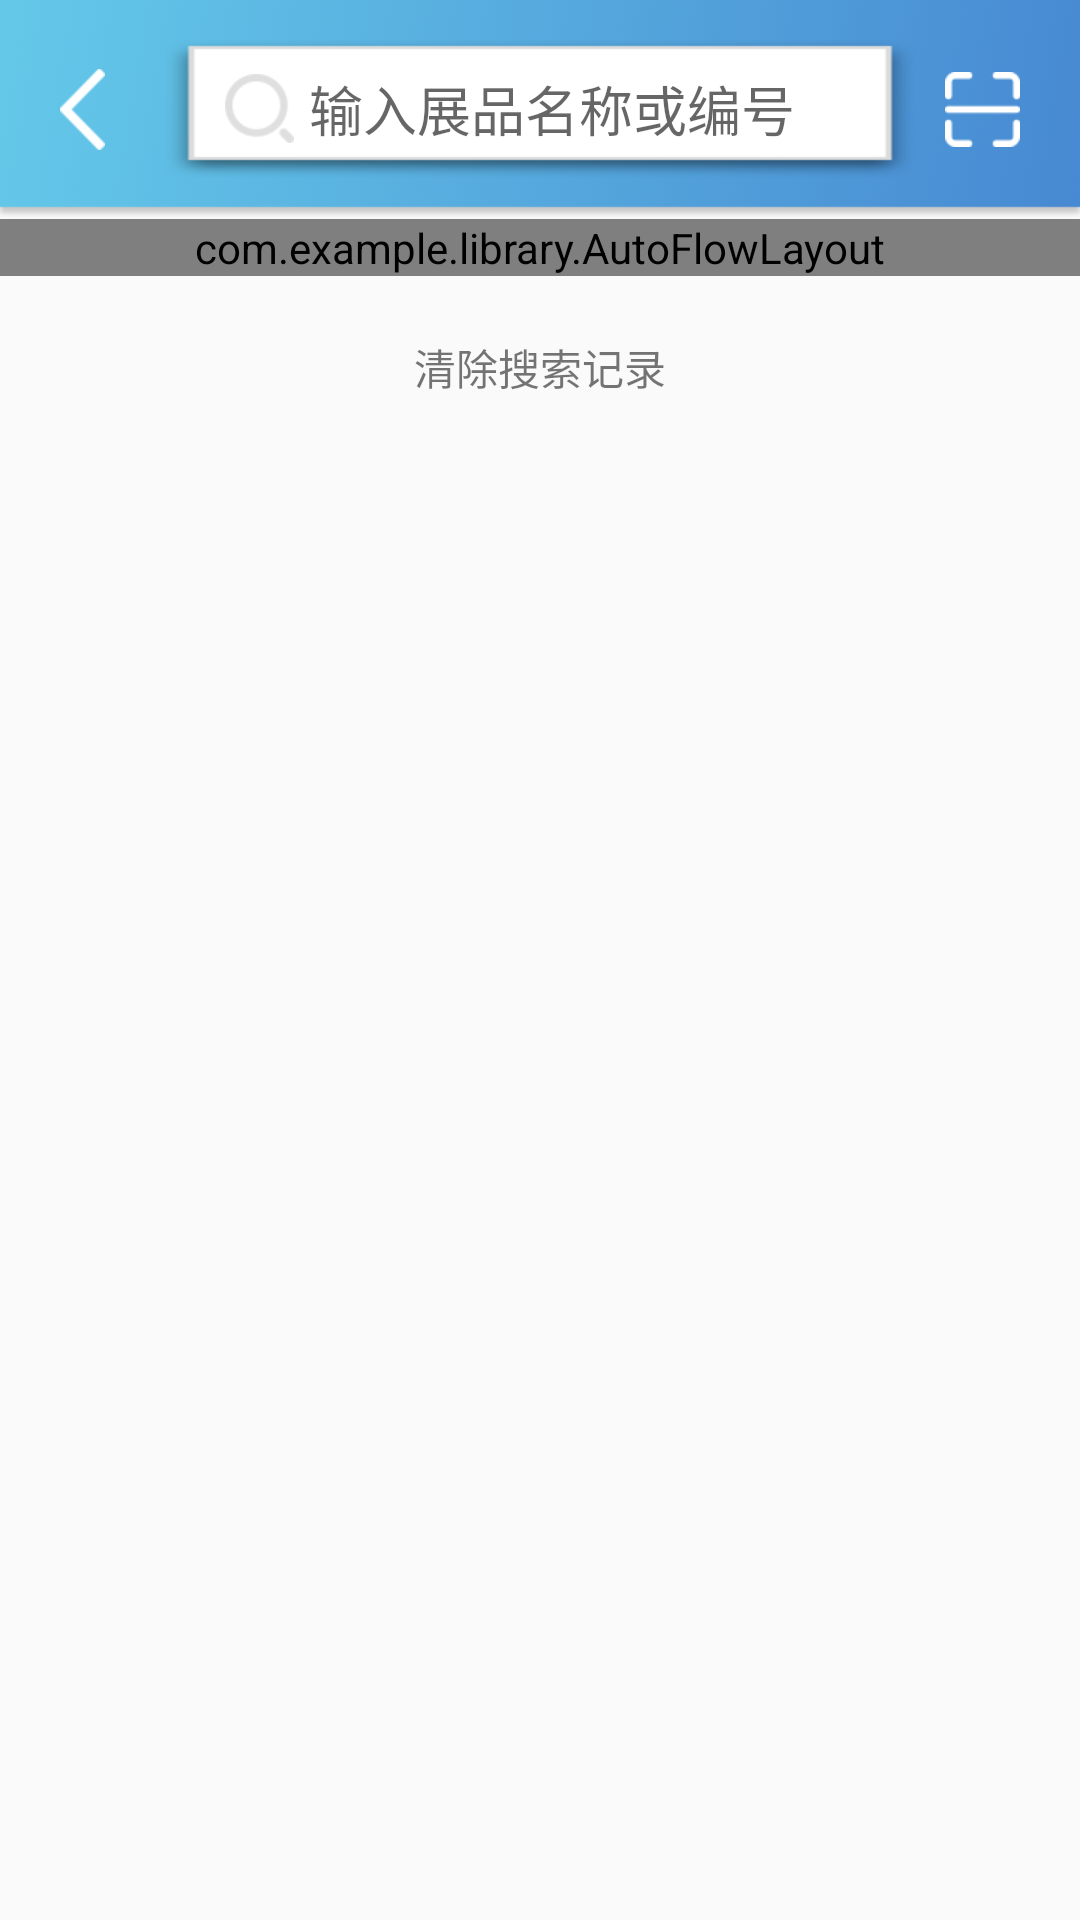

Point at icon controls on the screen. Image size 1080x1920, points as point (x, y).
back: point (82, 109)
scan: point (982, 109)
